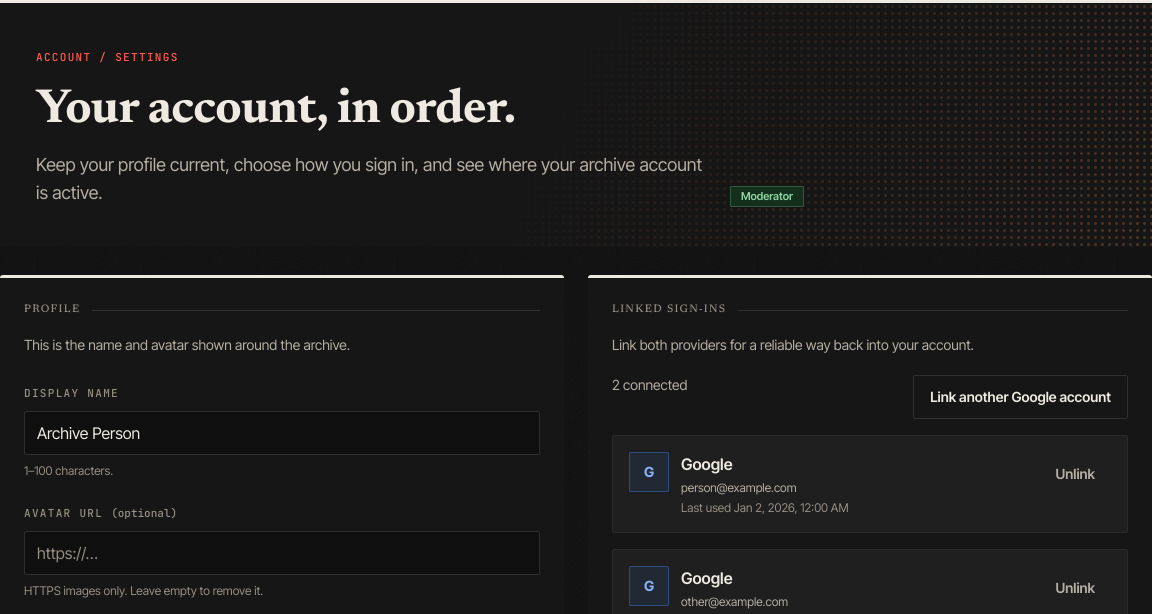
Test: AccountPage › renders and unlinks multiple identities from one provider independently
Expected: the text "Google" is shown 2 times, [681, 454, 732, 474]; [681, 568, 732, 588]
Expected: the button "Link another Google account" is shown, [913, 374, 1128, 418]
What coordinates should you click on to do the following:
click the button with aria-label "Unlink Google identity other@example.com"
I would click on:
 (1075, 588)
Its box is [1040, 566, 1111, 610].
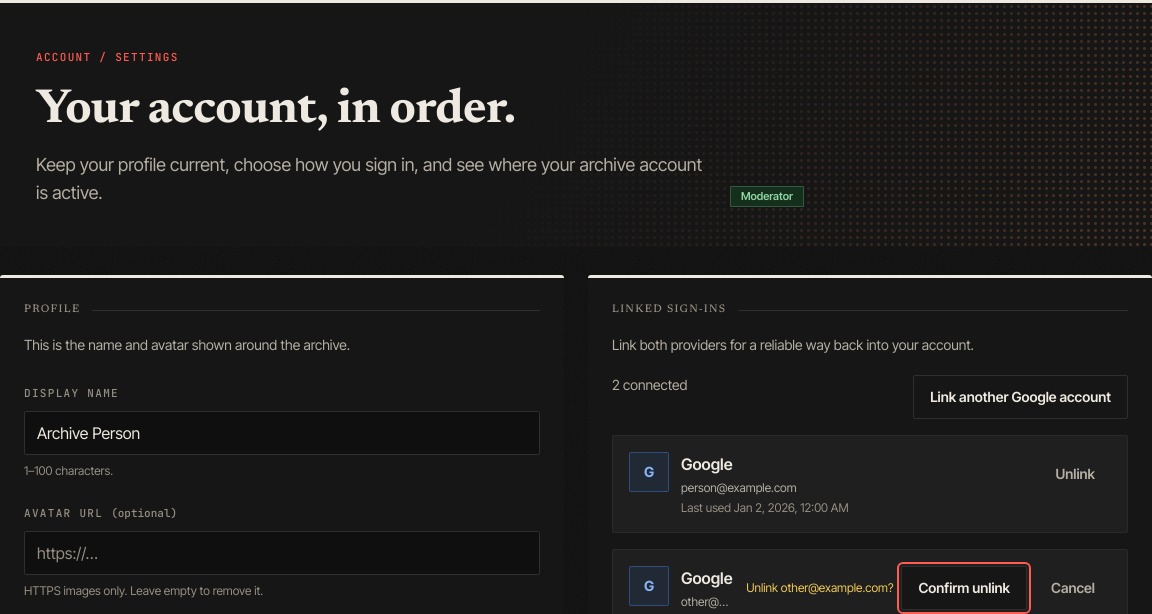
What coordinates should you click on to do the following:
click the button with aria-label "Confirm unlink other@example.com"
I would click on:
 (964, 588)
Its box is [902, 566, 1027, 610].
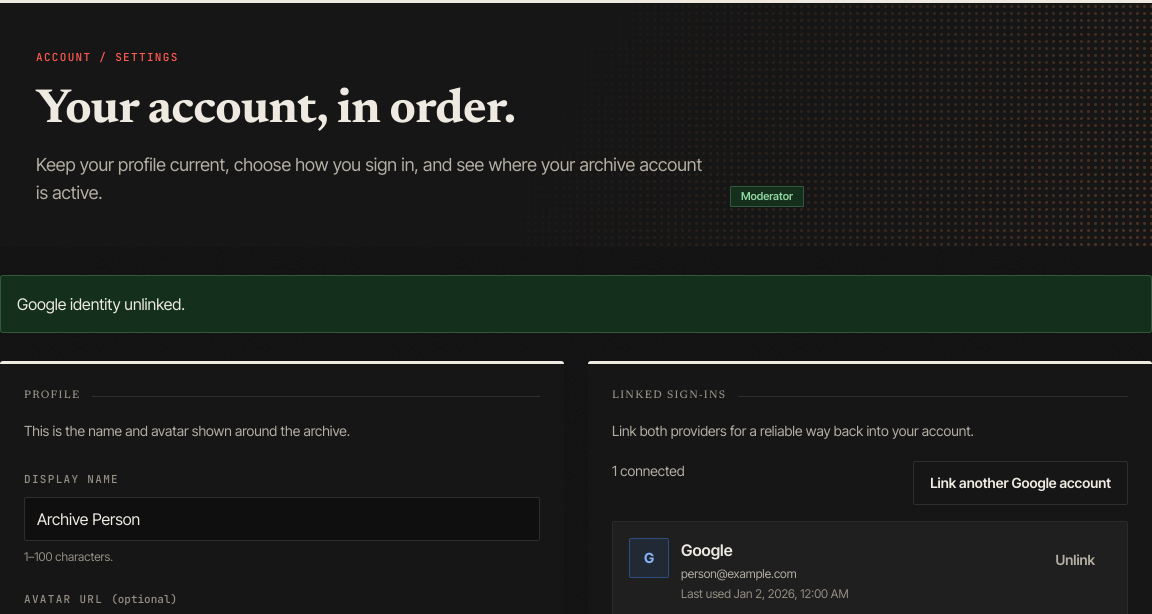
Now the text "Google identity unlinked." is shown, box [0, 275, 1151, 333]
